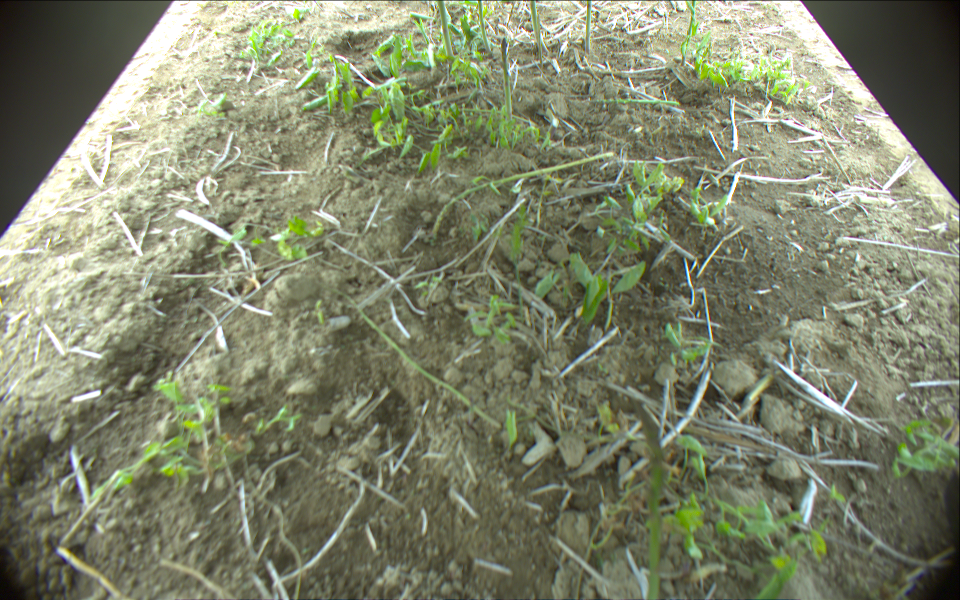aspa: (335, 287, 502, 431), (426, 150, 617, 240), (634, 406, 660, 600), (500, 37, 513, 132), (529, 1, 544, 64), (436, 1, 452, 58), (476, 1, 492, 51), (586, 98, 681, 106), (584, 1, 592, 55)
